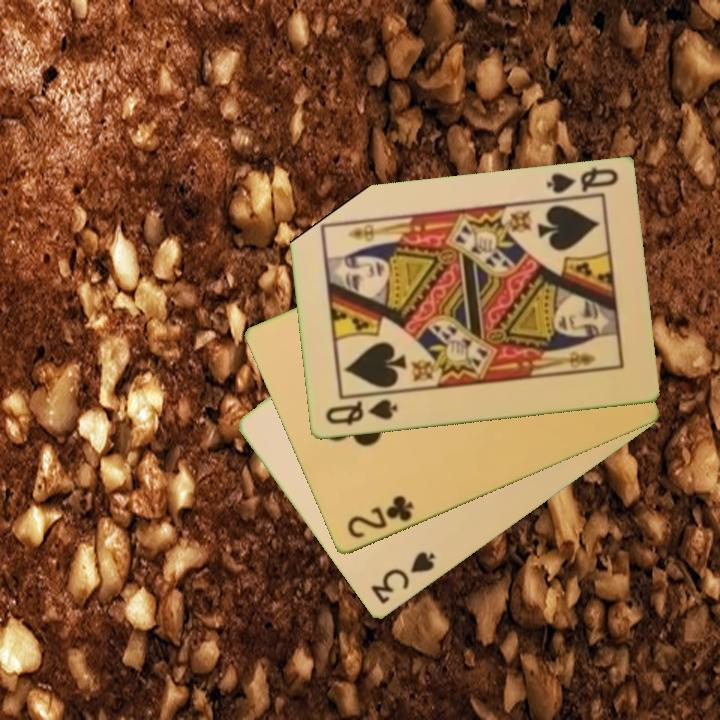2c: (343, 492, 417, 543)
3s: (367, 548, 438, 608)
Qs: (542, 164, 621, 197), (321, 396, 400, 428)
